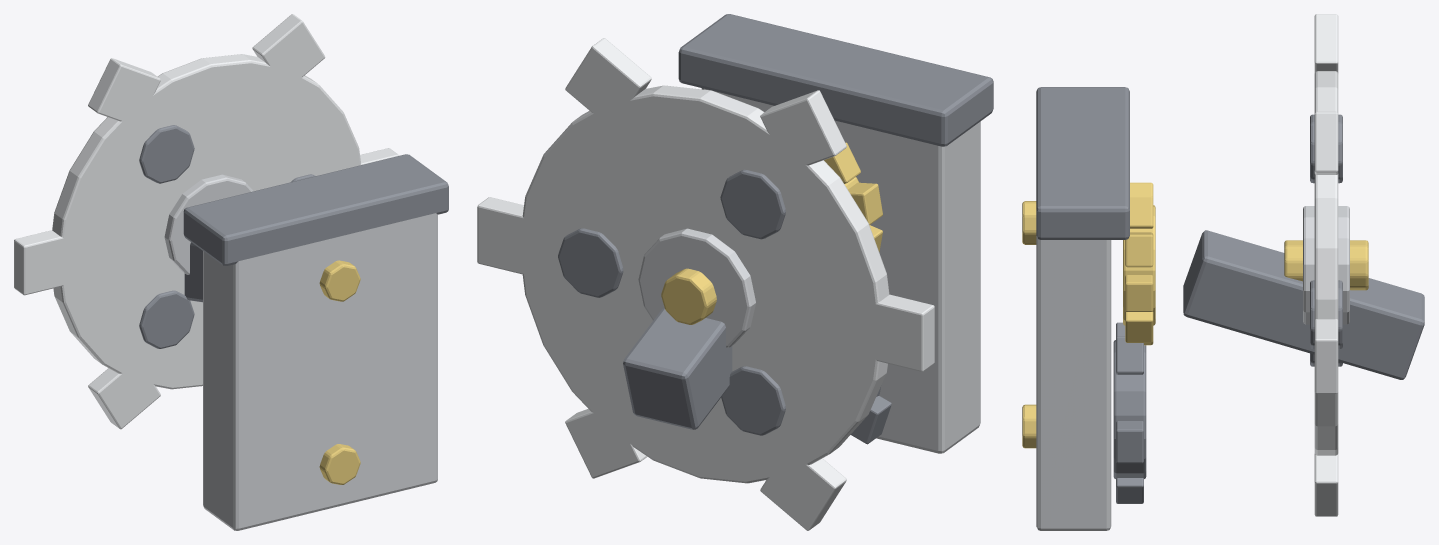
File: trap_saw.glb
3 renders of one model, left to right at view 1: azimuth 30°, elevation 25°; view 2: azimuth 150°, elevation 25°; view 3: azimuth 270°, elevation 25°, orthographic. The views are drawn at different scales.
Parts seen in each view (by area): view 1: Mount, BladeDisc, MountCap, Tooth3, Tooth2, BladeHub, Tooth1, Tooth10, BladeHole1, BladeHole2, Tooth4, MountBolt66 (+5 smaller); view 2: BladeDisc, Mount, MountCap, Arm, BladeHub, Tooth3, Tooth2, Tooth1, BladeHole0, BladeHole1, BladeHole2, Tooth4 (+11 smaller); view 3: Mount, Arm, MountCap, BladeDisc, Motor, BladeHub, Axle, Tooth5, Tooth2, Tooth1, Tooth0, Tooth7 (+13 smaller).
Boxes of the visible parts, x1,y1,x2,y2 form: Mount: (203, 213, 437, 530); BladeDisc: (52, 54, 360, 389); MountCap: (183, 154, 448, 265); Tooth3: (14, 230, 69, 295); Tooth2: (88, 58, 160, 125); BladeHub: (164, 174, 253, 274); Tooth1: (252, 14, 324, 88); Tooth10: (88, 361, 159, 429); BladeHole1: (139, 125, 194, 183); BladeHole2: (139, 290, 194, 348); Tooth4: (89, 362, 160, 429); MountBolt66: (319, 260, 360, 301); BladeDisc: (520, 85, 889, 483); Mount: (701, 88, 980, 453); MountCap: (678, 14, 993, 146); Arm: (623, 308, 732, 429); BladeHub: (638, 228, 755, 347); Tooth3: (868, 294, 934, 371); Tooth2: (760, 90, 846, 169); Tooth1: (565, 38, 651, 113); BladeHole0: (558, 228, 623, 297); BladeHole1: (720, 169, 785, 239); BladeHole2: (721, 366, 785, 435); Tooth4: (760, 449, 844, 530); Mount: (1036, 236, 1111, 530); Arm: (1183, 230, 1424, 379); MountCap: (1036, 87, 1129, 239); BladeDisc: (1314, 71, 1338, 455); Motor: (1113, 340, 1146, 478); BladeHub: (1303, 206, 1349, 324); Axle: (1284, 240, 1368, 290); Tooth5: (1314, 454, 1338, 516); Tooth2: (1314, 14, 1338, 72); Tooth1: (1314, 111, 1338, 173); Tooth0: (1314, 320, 1338, 393); Tooth7: (1314, 112, 1338, 174).
Size of the model in its own units: 1.03 by 1.01 by 0.8599.
